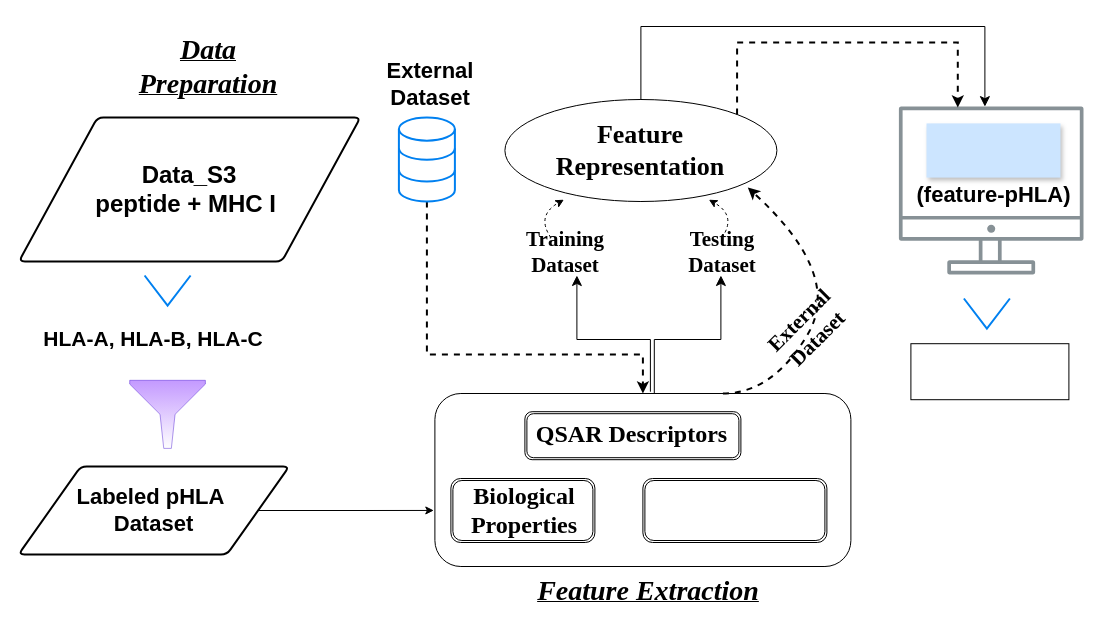
The diagram is 1100 pixels wide and 625 high, and some of its shapes have lost their labels. Each missing label, with the centre of its shape:
"Binding Affinity Predictions" goes at pixel 989 371.
"LightGBM Classifier" goes at pixel 994 151.
"Physiochemical Properties" goes at pixel 734 510.
